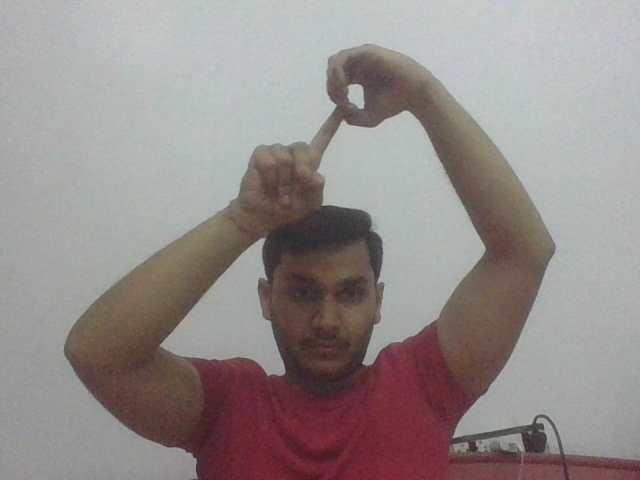Q: (280, 37, 401, 189)
